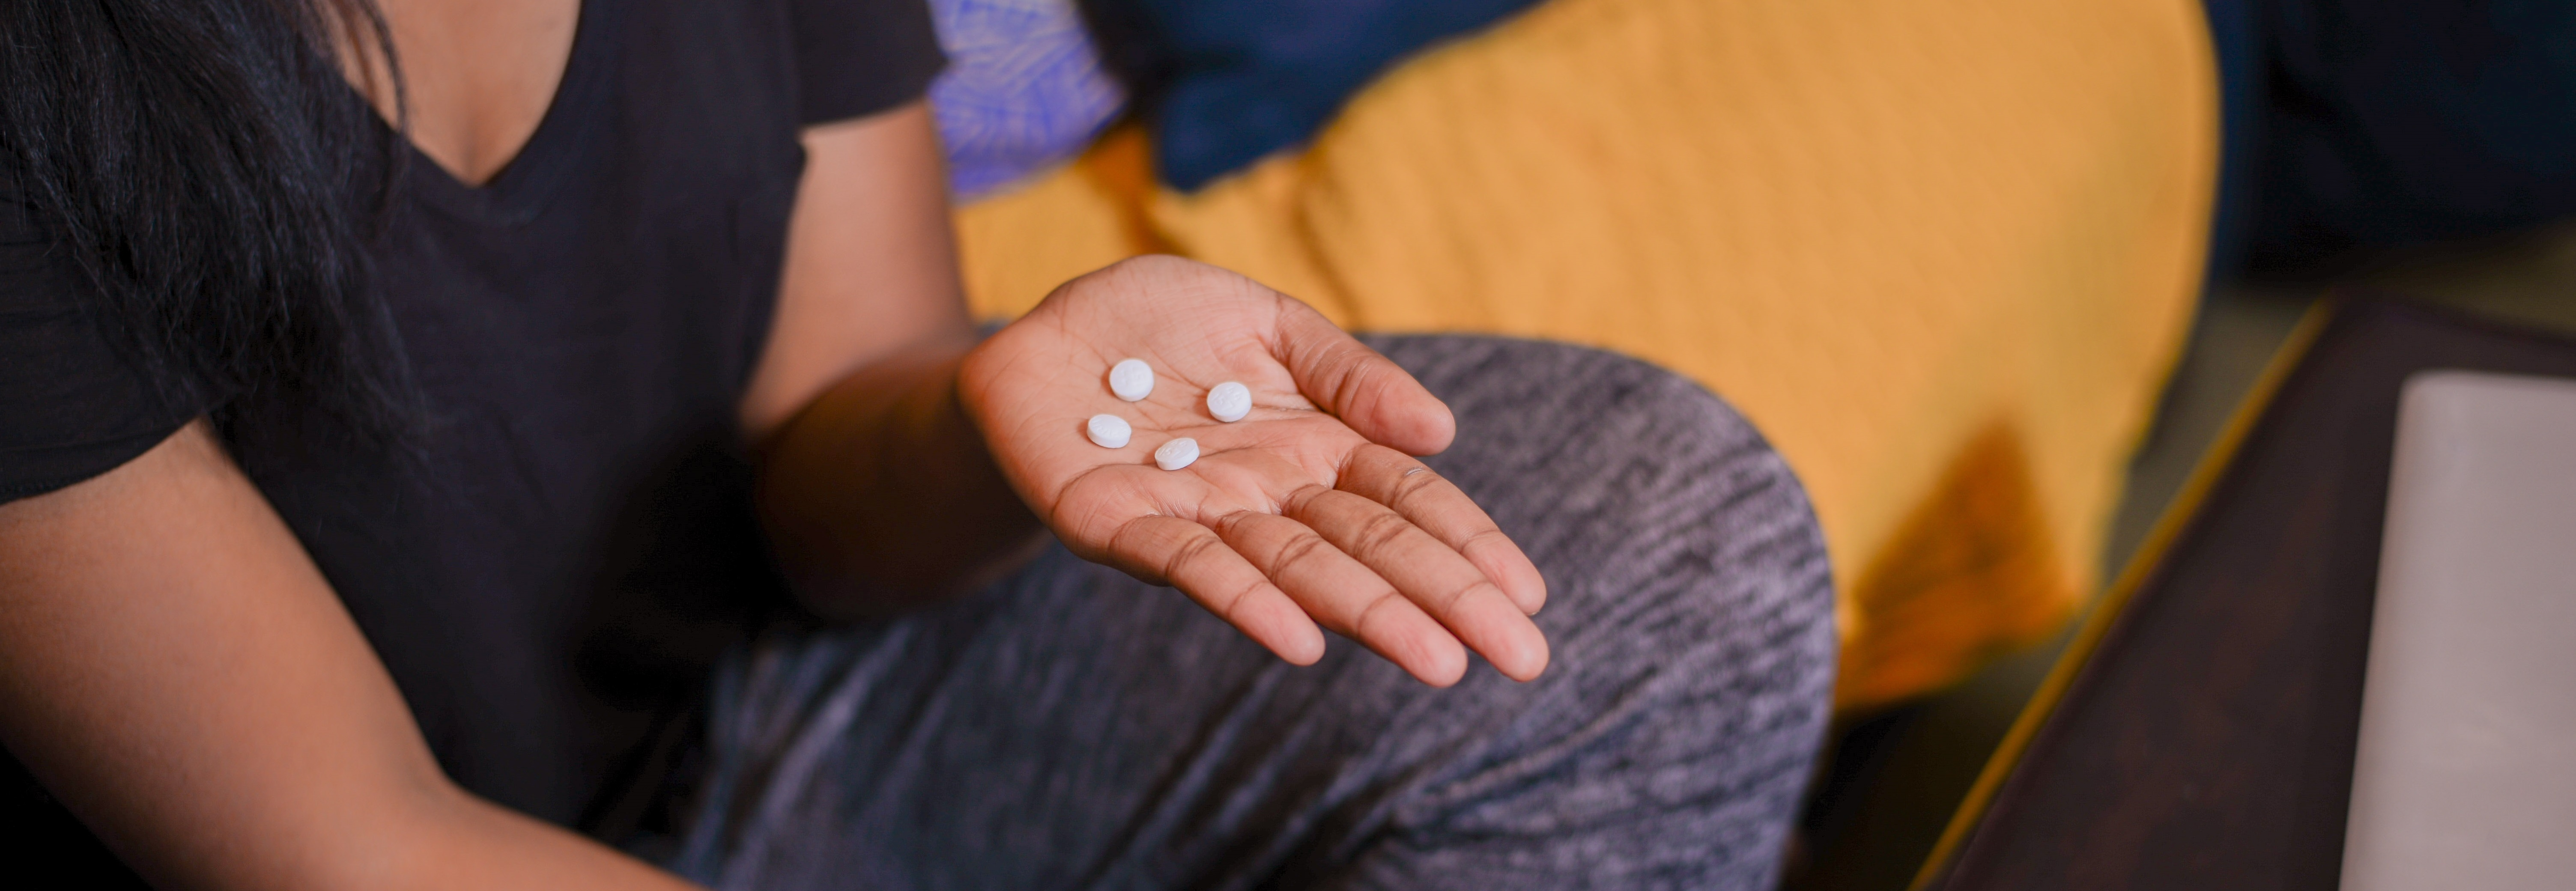pills: (1204, 376, 1258, 437), (1081, 399, 1135, 460), (1155, 426, 1209, 485), (1107, 349, 1160, 408)
